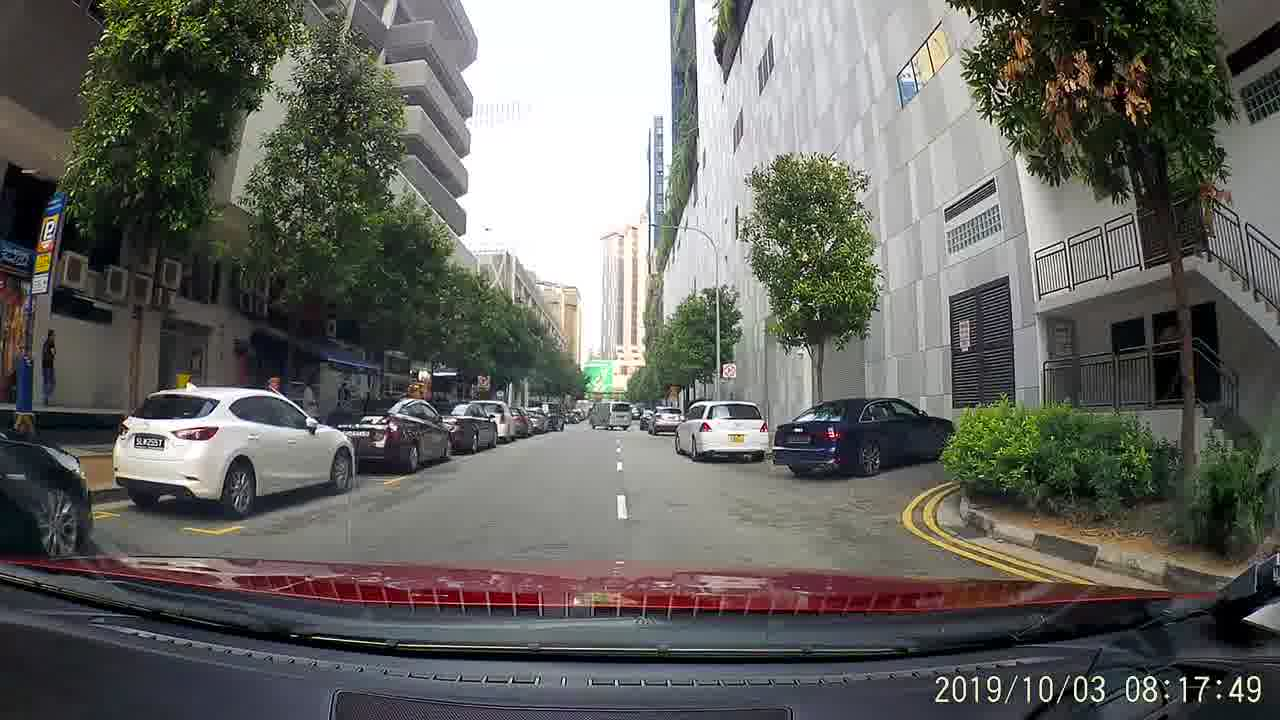car: (111, 387, 355, 520), (771, 395, 955, 481), (321, 398, 452, 472), (671, 399, 770, 464), (438, 401, 500, 458), (475, 398, 532, 440), (647, 406, 682, 438), (524, 404, 550, 433)
